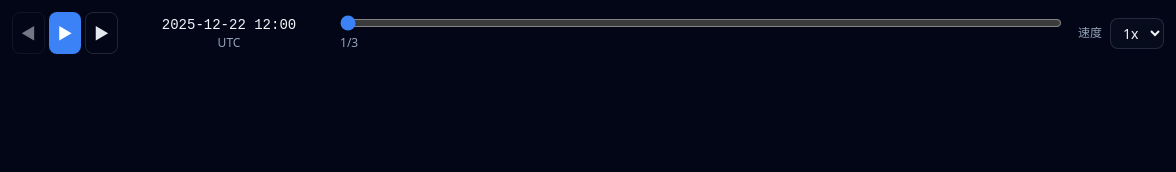
it: TimeController › plays smoothly and respects speed
Click the button named "播放": coordinates (65, 33) top-left (49, 12), bottom-right (81, 54)
Wait 1000 ms
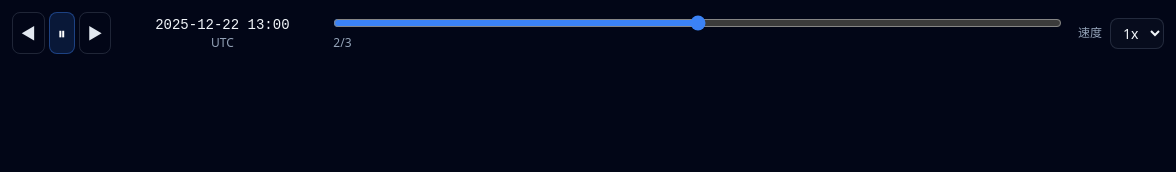
expect the text "2025-12-22 13:00" is shown: met, box top-left (155, 17), bottom-right (290, 33)
Select "2x" in the dropdown named "播放速度": coordinates (1137, 33) top-left (1110, 18), bottom-right (1164, 48)
Wait 500 ms
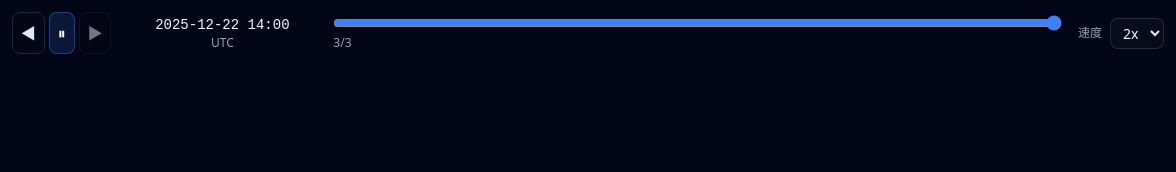
expect the text "2025-12-22 14:00" is shown: met, box top-left (155, 17), bottom-right (290, 33)
